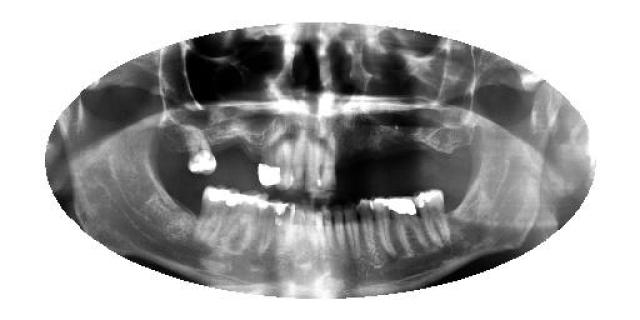Fillings: (388, 196, 430, 256), (197, 188, 235, 242), (230, 191, 262, 250), (371, 195, 394, 257), (259, 131, 281, 190)
